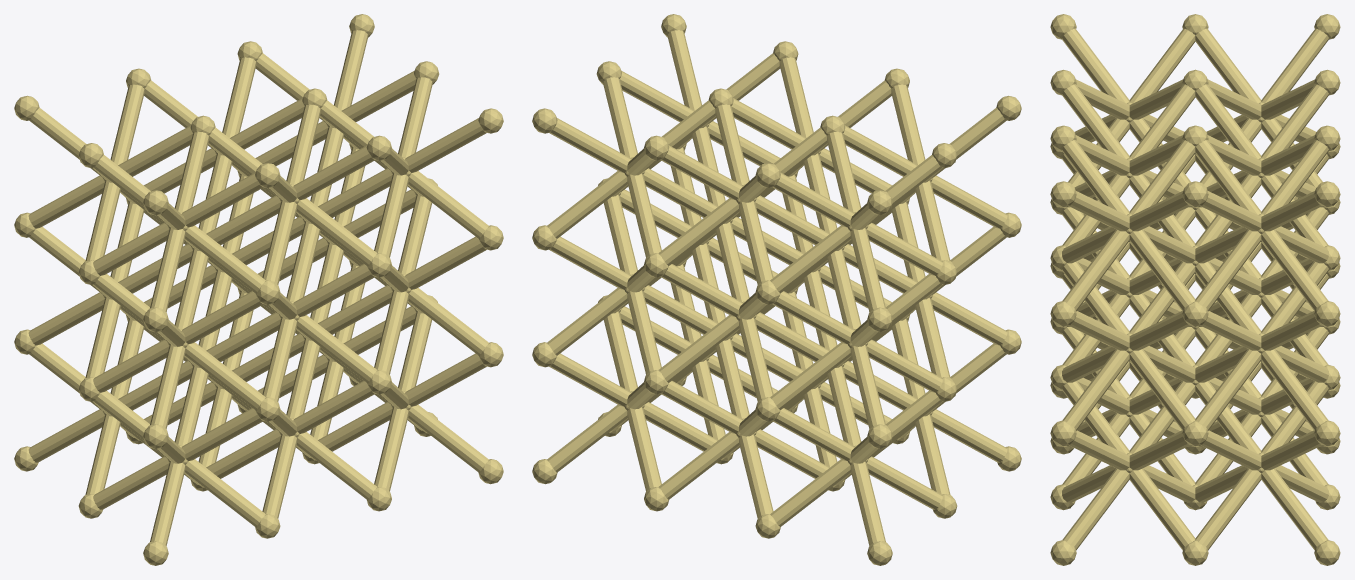
Rendered from bcc_lattice_demo.glb.
3 renders of one model, left to right at view 1: azimuth 30°, elevation 25°; view 2: azimuth 150°, elevation 25°; view 3: azimuth 270°, elevation 25°, orthographic. The views are drawn at different scales.
Parts seen in each view (by area): view 1: bcc_lattice; view 2: bcc_lattice; view 3: bcc_lattice.
Part boxes in pixels (x1,y1,x2,y2): bcc_lattice: (14,14,503,565); bcc_lattice: (532,14,1021,565); bcc_lattice: (1050,14,1340,565).
Size of the model in its own units: 38.4 by 38.4 by 26.4.
